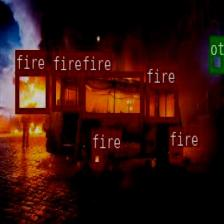fire: (81, 71, 143, 117), (15, 70, 48, 112), (145, 83, 178, 122), (52, 70, 82, 110), (90, 149, 102, 167), (169, 146, 182, 161)
